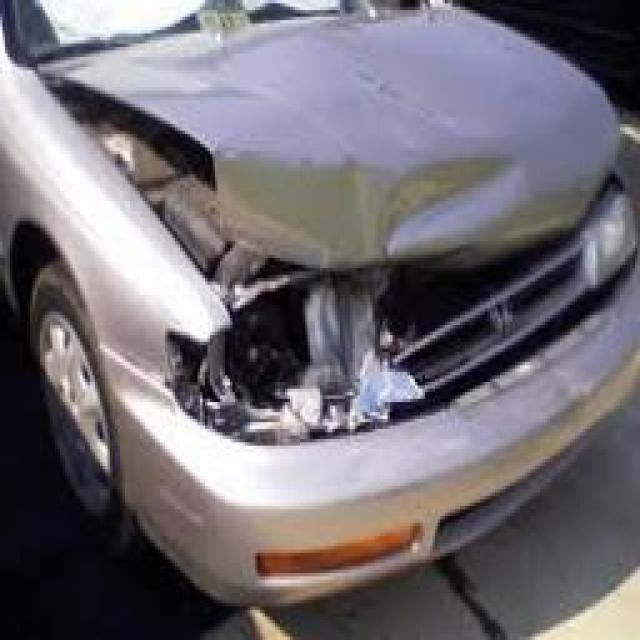replaceable: (152, 287, 446, 427), (215, 142, 531, 258)
